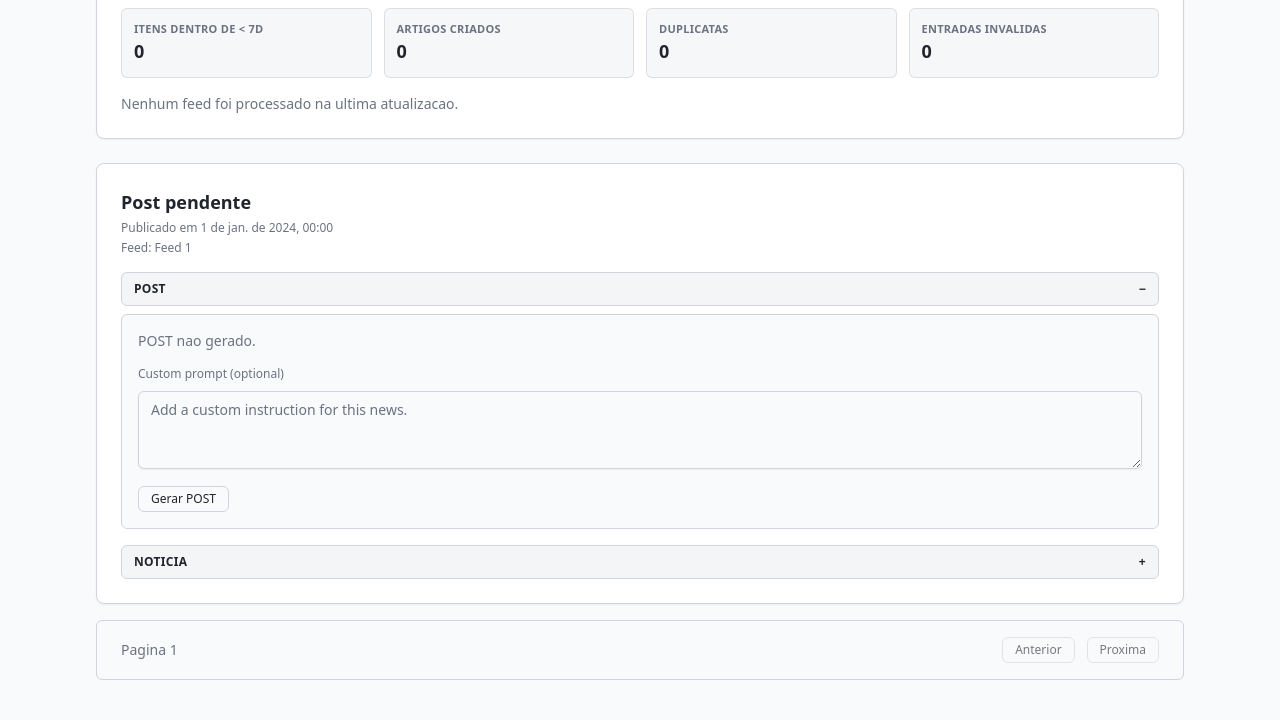
Test case: PostsPage › allows generating a post manually when content is missing
(page scrolled)
Expected: the text "POST nao gerado." is shown, top-left (138, 331), bottom-right (256, 350)
Click the button "Gerar POST" at (183, 499), box top-left (138, 486), bottom-right (229, 512)
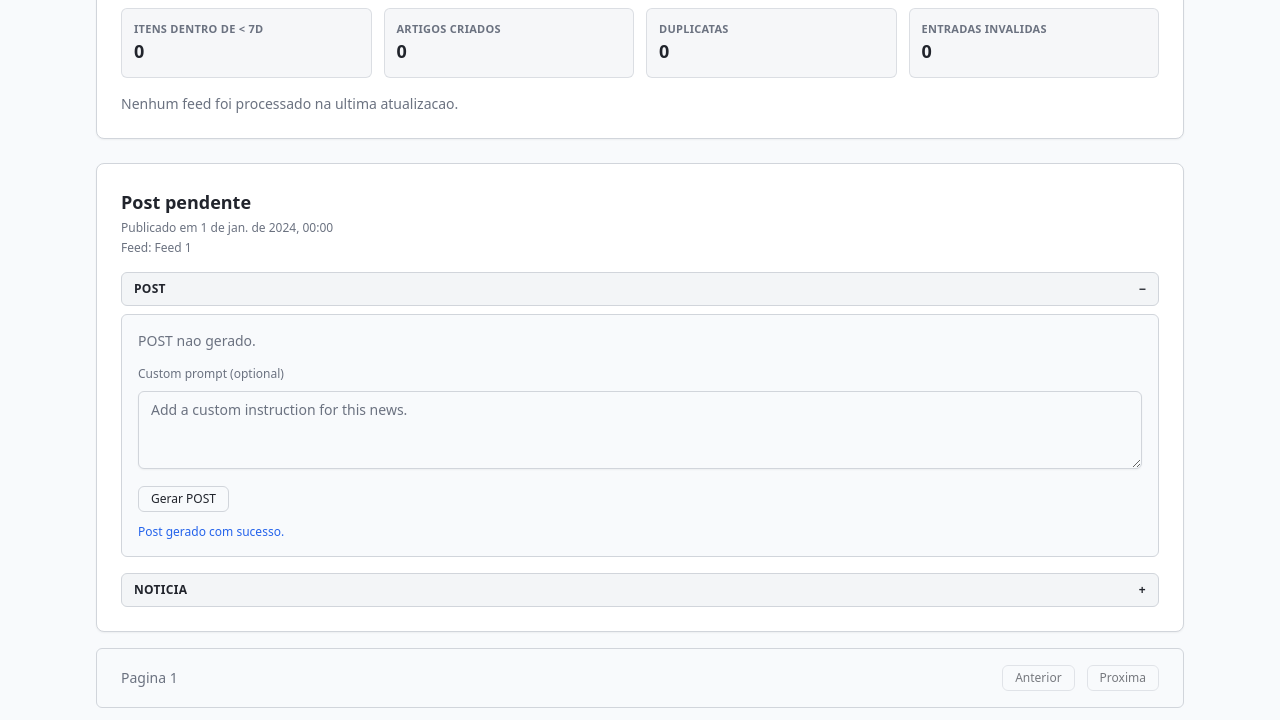
Result: the text "Post gerado com sucesso." is shown at top-left (138, 523), bottom-right (284, 540)
